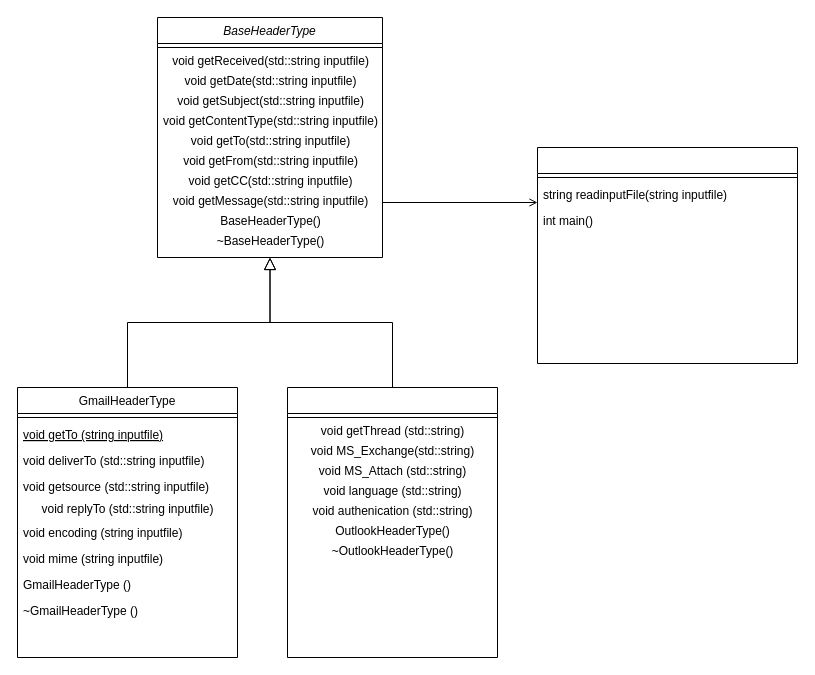
Image size: 815x675. Some labels were removed from this diagram. Here are the shapes that lost their labels. From the top down, the box of each, then its label:
(536, 146, 798, 364): Address
(286, 386, 498, 658): Professor
